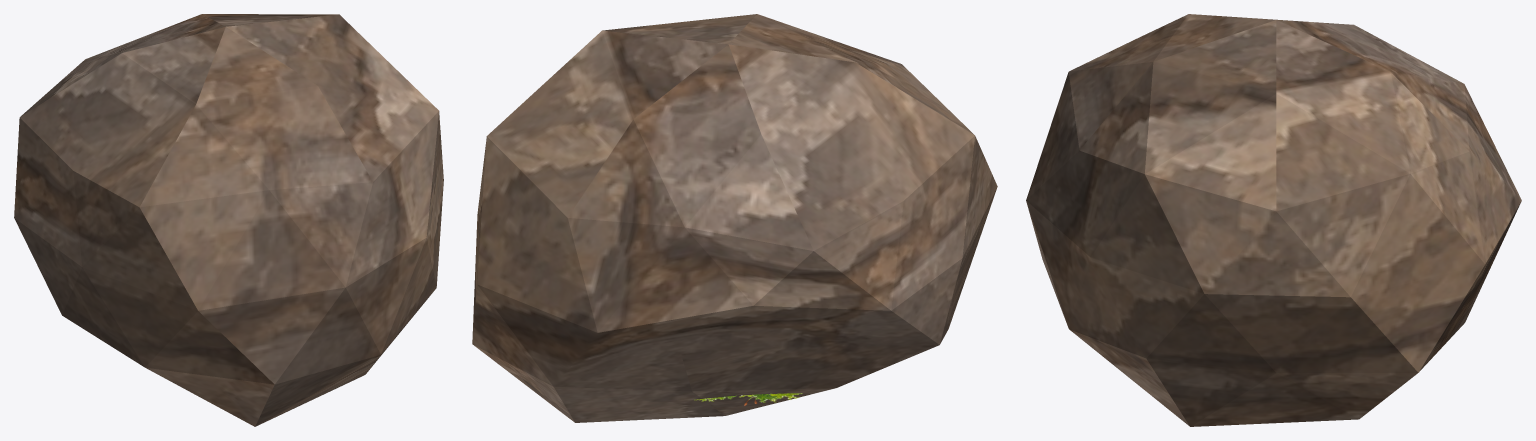
Rendered from rock-l-round.glb.
3 renders of one model, left to right at view 1: azimuth 30°, elevation 25°; view 2: azimuth 150°, elevation 25°; view 3: azimuth 270°, elevation 25°, orthographic. The views are drawn at different scales.
Parts seen in each view (by area): view 1: rock-l-round; view 2: rock-l-round; view 3: rock-l-round.
Part boxes in pixels (left/top/right/bottom): rock-l-round: left=14, top=14, right=443, bottom=426; rock-l-round: left=472, top=14, right=997, bottom=422; rock-l-round: left=1026, top=14, right=1521, bottom=426.
Size of the model in its own units: 3 by 2.66 by 3.35.
3 materials, 3 textured.
